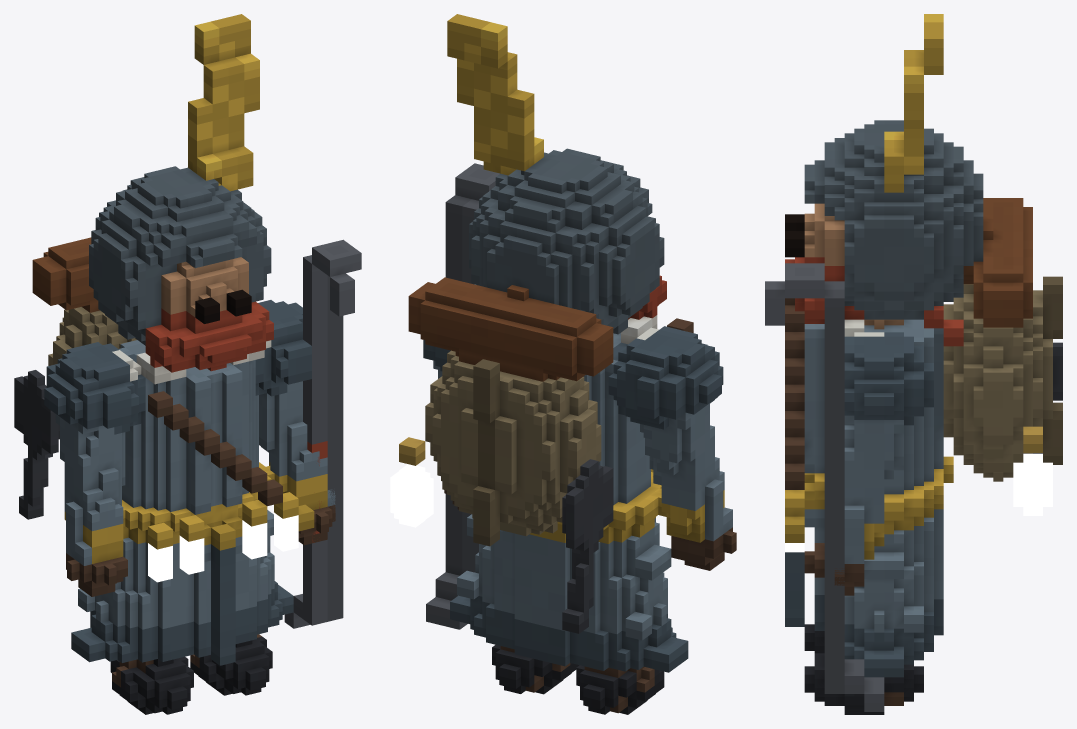
Rendered from u_receleur__trappeur.glb.
3 renders of one model, left to right at view 1: azimuth 30°, elevation 25°; view 2: azimuth 150°, elevation 25°; view 3: azimuth 270°, elevation 25°, orthographic. The views are drawn at different scales.
Parts seen in each view (by area): view 1: receleur_body, receleur_weapon, receleur_glow; view 2: receleur_body, receleur_weapon, receleur_glow; view 3: receleur_body, receleur_weapon, receleur_glow.
Boxes of the visible parts, box(x1,y1,x2,y2) form: receleur_body: box(14, 14, 335, 714); receleur_weapon: box(284, 239, 361, 628); receleur_glow: box(148, 512, 298, 582); receleur_body: box(399, 14, 736, 714); receleur_weapon: box(426, 163, 499, 629); receleur_glow: box(390, 464, 433, 527); receleur_body: box(785, 14, 1062, 714); receleur_weapon: box(765, 263, 884, 711); receleur_glow: box(785, 453, 1052, 552).
Size of the model in its own units: 0.85 by 1.93 by 0.75.
